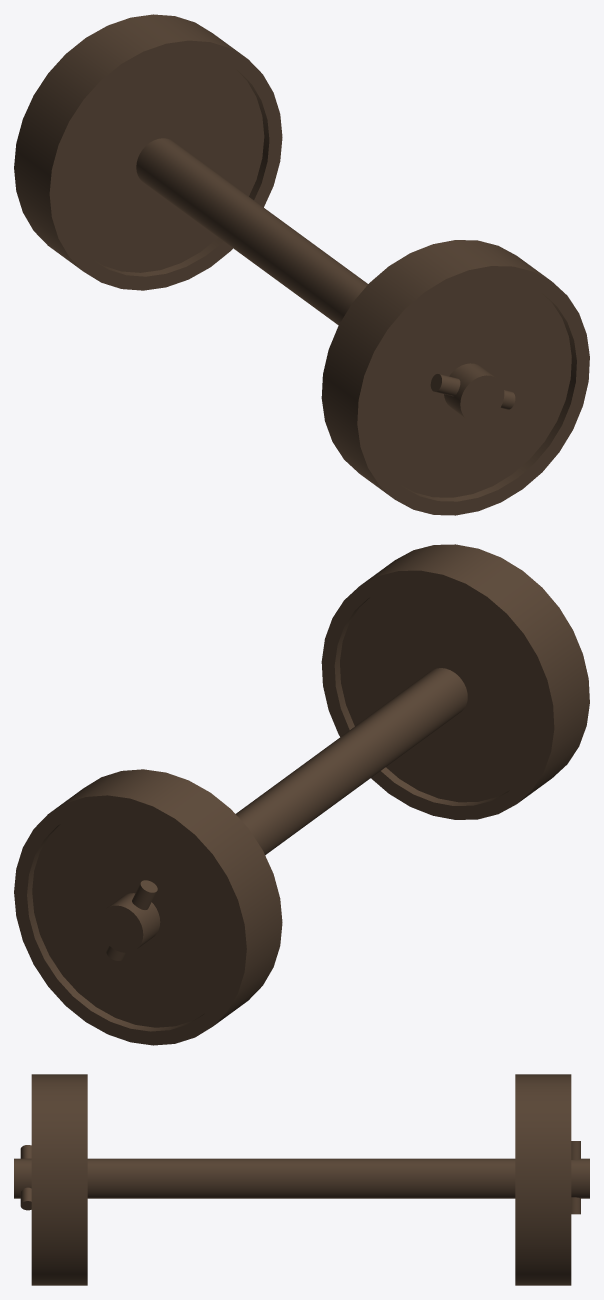
File: catapult_wheel_1.obj
The picture shows the model from 3 angles, top to bottom: view 1: azimuth 30°, elevation 25°; view 2: azimuth 150°, elevation 25°; view 3: azimuth 270°, elevation 25°; orthographic projection. The views are drawn at different scales.
Parts seen in each view (by area): view 1: catapult_wheel_1; view 2: catapult_wheel_1; view 3: catapult_wheel_1.
Part boxes in pixels (left/top/right/bottom): catapult_wheel_1: left=14, top=14, right=589, bottom=515; catapult_wheel_1: left=14, top=544, right=589, bottom=1045; catapult_wheel_1: left=14, top=1074, right=589, bottom=1285.
Bounding box in the file's own units: 1368 × 1368 × 3726.
